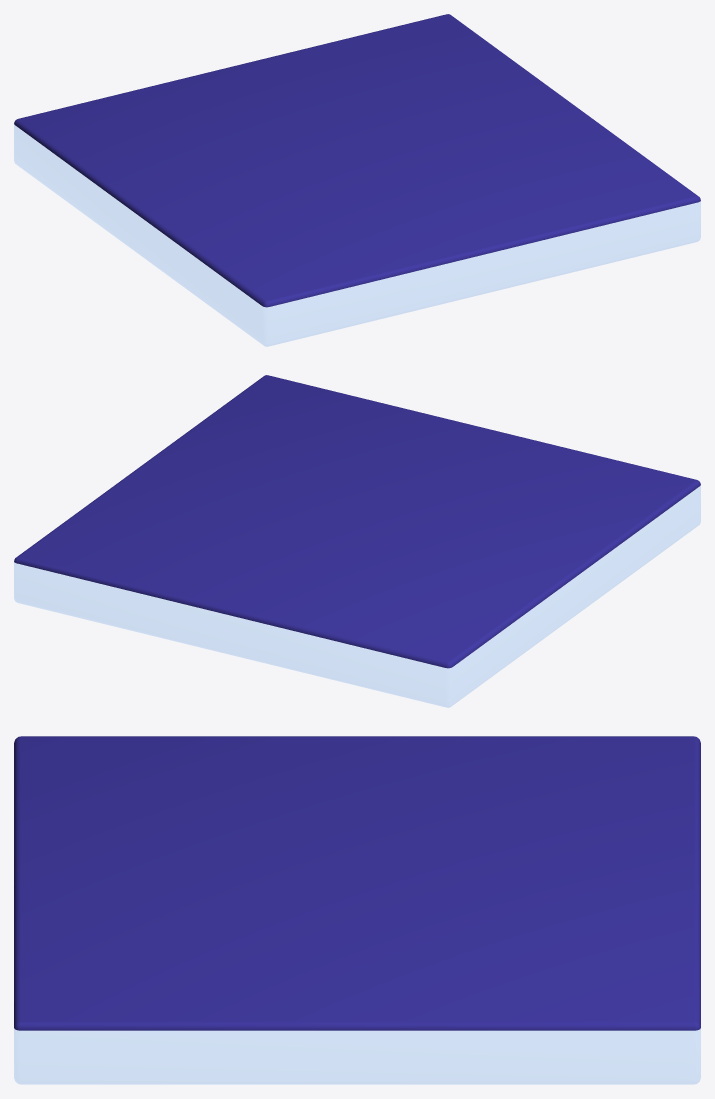
Rendered from flip_IN_04.fbx.
The picture shows the model from 3 angles, top to bottom: view 1: azimuth 30°, elevation 25°; view 2: azimuth 150°, elevation 25°; view 3: azimuth 270°, elevation 25°; orthographic projection. The views are drawn at different scales.
Visible parts, largest first — view 1: Cube; view 2: Cube; view 3: Cube.
Boxes of the visible parts, left/top/right/bottom form: Cube: left=14, top=14, right=700, bottom=346; Cube: left=14, top=375, right=700, bottom=707; Cube: left=14, top=736, right=700, bottom=1084.
Bounding box in the file's own units: 200 × 20 × 200.
